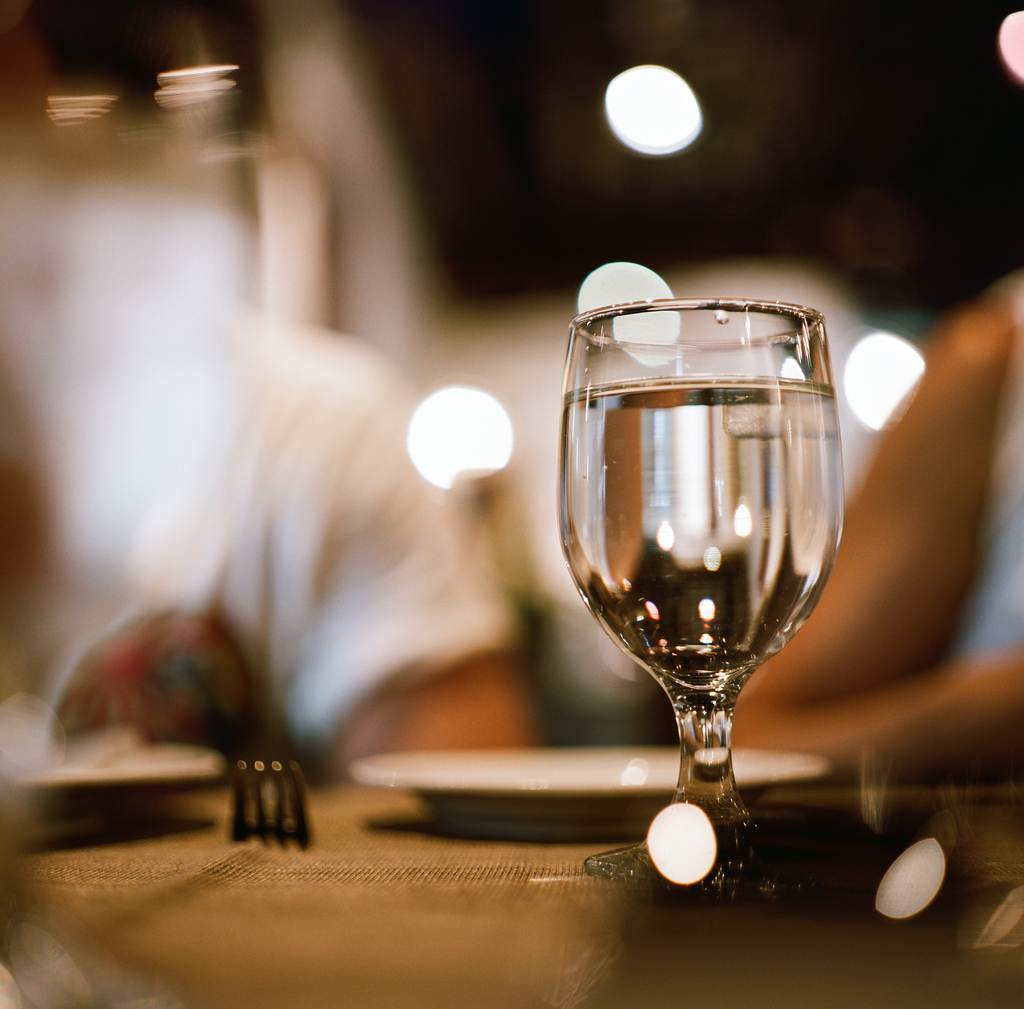glass of water: (551, 306, 845, 892)
